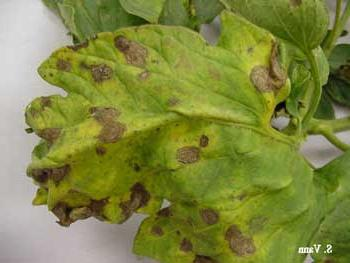Tomato Early blight leaf: (26, 18, 315, 263)
